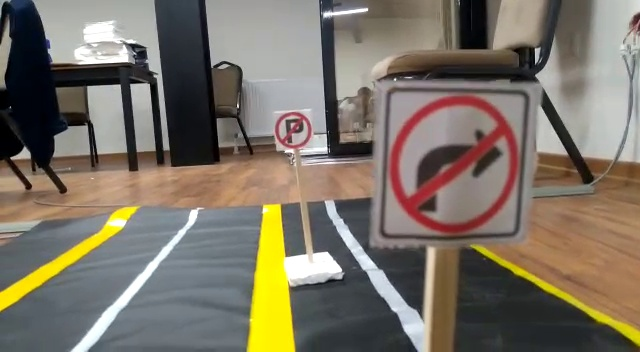park_yapilmaz: (272, 110, 315, 150)
saga_donulmez: (383, 83, 526, 240)
